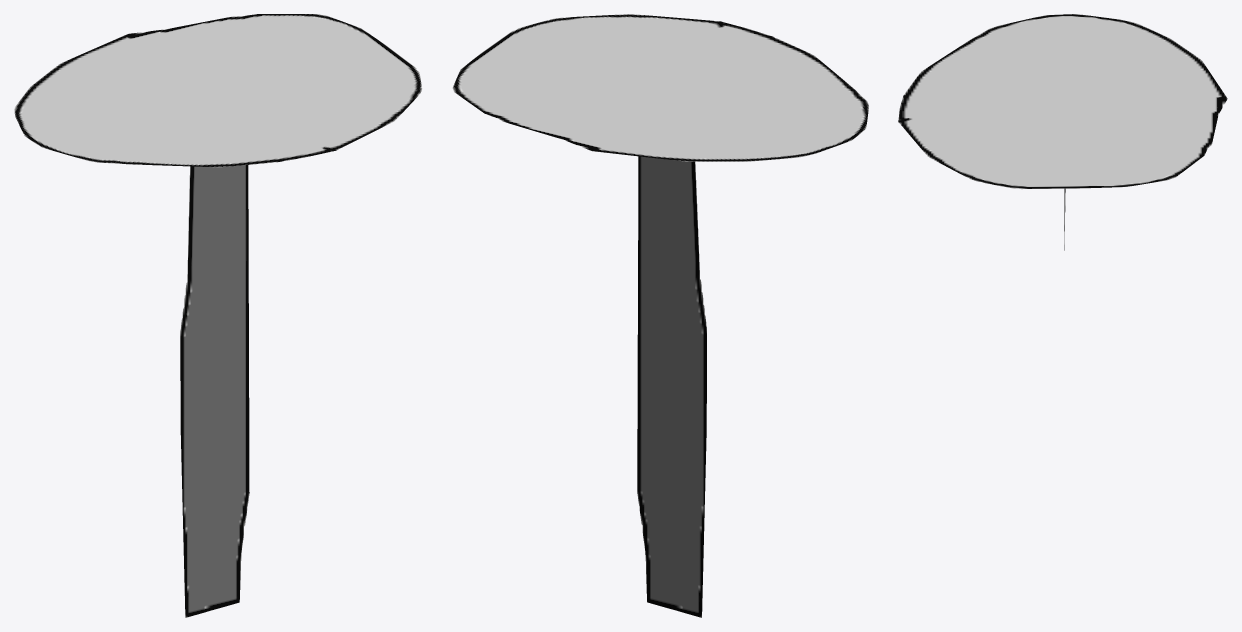
Rendered from stooldone.fbx.
3 renders of one model, left to right at view 1: azimuth 30°, elevation 25°; view 2: azimuth 150°, elevation 25°; view 3: azimuth 270°, elevation 25°, orthographic. The views are drawn at different scales.
Visible parts, largest first — view 1: Cube, Cube.001; view 2: Cube, Cube.001; view 3: Cube.
Boxes of the visible parts, box(x1,y1,x2,y2) form: Cube: box(14, 14, 422, 167); Cube.001: box(180, 165, 249, 617); Cube: box(452, 14, 868, 161); Cube.001: box(637, 156, 706, 617); Cube: box(898, 14, 1227, 189).
Bounding box in the file's own units: 166 × 225 × 132.
